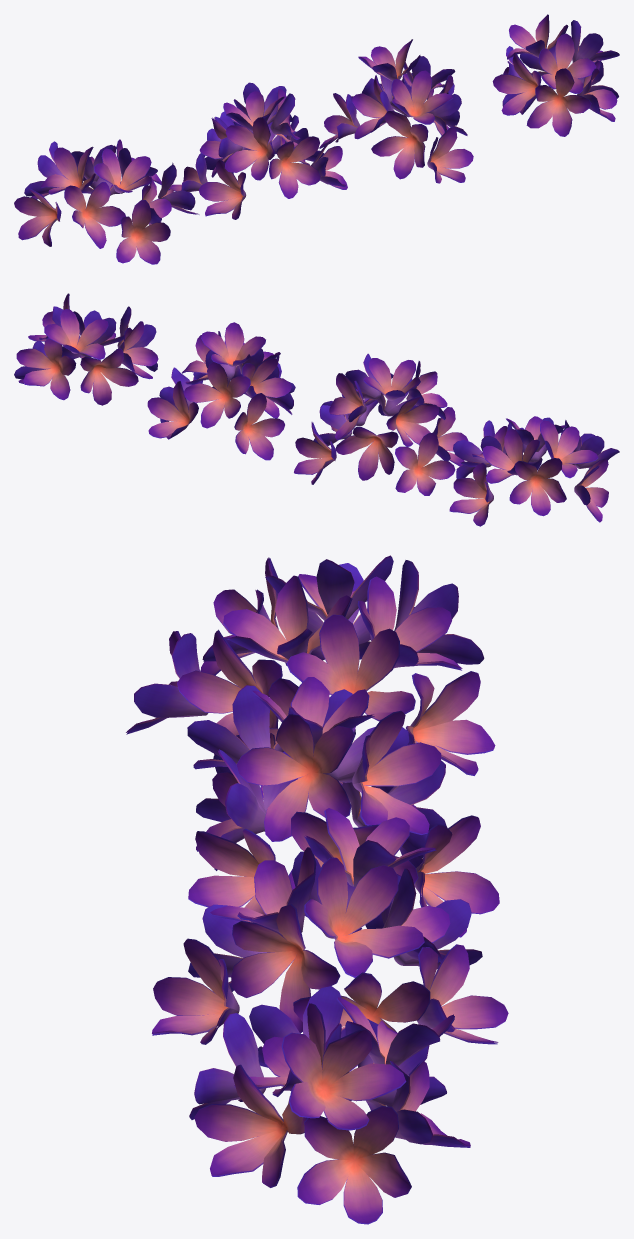
The model's file is floral_cluster.glb.
3 views of the same model, one above another, from view 1: azimuth 30°, elevation 25°; view 2: azimuth 150°, elevation 25°; view 3: azimuth 270°, elevation 25° (orthographic). The views are drawn at different scales.
Parts seen in each view (by area): view 1: redbudHemiC|RedbudPetal|Dupli|0.1.2, redbudHemiB|RedbudPetal.001|Dupli|0.2.8, redbudHemiA|RedbudPetal.001|Dupli|0.1.5, redbudHemiD|RedbudPetal|Dupli|0.1.2, redbudHemiA|RedbudPetal.006|Dupli|0.3.4, redbudHemiB|RedbudPetal.005|Dupli|0.4.4, redbudHemiC|RedbudPetal|Dupli|0.0.10, redbudHemiB|RedbudPetal.002|Dupli|0.1.4, redbudHemiC|RedbudPetal.003|Dupli|0.3, redbudHemiA|RedbudPetal.001|Dupli|0.0.7, redbudHemiD|RedbudPetal.005|Dupli|0.3.6, redbudHemiC|RedbudPetal|Dupli|0.0.4 (+38 smaller); view 2: redbudHemiC|RedbudPetal|Dupli|0.1.8, redbudHemiB|RedbudPetal.002|Dupli|0.2.5, redbudHemiC|RedbudPetal.006|Dupli|0.4, redbudHemiC|RedbudPetal.005|Dupli|0.4.5, redbudHemiD|RedbudPetal.005|Dupli|0.3.7, redbudHemiB|RedbudPetal.006|Dupli|0.4, redbudHemiC|RedbudPetal.005|Dupli|0.4.7, redbudHemiD|RedbudPetal.005|Dupli|0.4.1, redbudHemiA|RedbudPetal.005|Dupli|0.4.5, redbudHemiB|RedbudPetal.005|Dupli|0.4.9, redbudHemiD|RedbudPetal|Dupli|0.0.5, redbudHemiD|RedbudPetal.005|Dupli|0.4.5 (+51 smaller); view 3: redbudHemiB|RedbudPetal.001|Dupli|0.1.6, redbudHemiC|RedbudPetal.001|Dupli|0.1.6, redbudHemiD|RedbudPetal|Dupli|0.0.4, redbudHemiA|RedbudPetal.001|Dupli|0.0.6, redbudHemiC|RedbudPetal.002|Dupli|0.2.10, redbudHemiB|RedbudPetal.006|Dupli|0.3.10, redbudHemiD|RedbudPetal.002|Dupli|0.2, redbudHemiB|RedbudPetal.004|Dupli|0.3.1, redbudHemiC|RedbudPetal.004|Dupli|0.3.1, redbudHemiA|RedbudPetal.002|Dupli|0.0.10, redbudHemiA|RedbudPetal.003|Dupli|0.2.1, redbudHemiA|RedbudPetal.006|Dupli|0.4.10 (+66 smaller).
Part boxes in pixels (x1,y1,x2,y2): redbudHemiC|RedbudPetal|Dupli|0.1.2: (411, 70, 432, 113); redbudHemiB|RedbudPetal.001|Dupli|0.2.8: (198, 182, 241, 201); redbudHemiA|RedbudPetal.001|Dupli|0.1.5: (54, 147, 79, 186); redbudHemiD|RedbudPetal|Dupli|0.1.2: (492, 74, 535, 94); redbudHemiA|RedbudPetal.006|Dupli|0.3.4: (119, 156, 151, 189); redbudHemiB|RedbudPetal.005|Dupli|0.4.4: (225, 125, 263, 151); redbudHemiC|RedbudPetal|Dupli|0.0.10: (432, 149, 473, 168); redbudHemiB|RedbudPetal.002|Dupli|0.1.4: (225, 150, 262, 172); redbudHemiC|RedbudPetal.003|Dupli|0.3: (352, 93, 386, 117); redbudHemiA|RedbudPetal.001|Dupli|0.0.7: (14, 196, 56, 216); redbudHemiD|RedbudPetal.005|Dupli|0.3.6: (555, 33, 574, 70); redbudHemiC|RedbudPetal|Dupli|0.0.4: (393, 140, 414, 179); redbudHemiC|RedbudPetal|Dupli|0.1.8: (147, 397, 186, 422); redbudHemiB|RedbudPetal.002|Dupli|0.2.5: (358, 439, 378, 480); redbudHemiC|RedbudPetal.006|Dupli|0.4: (253, 377, 291, 397); redbudHemiC|RedbudPetal.005|Dupli|0.4.5: (183, 383, 224, 402); redbudHemiD|RedbudPetal.005|Dupli|0.3.7: (16, 348, 56, 368); redbudHemiB|RedbudPetal.006|Dupli|0.4: (398, 404, 439, 423); redbudHemiC|RedbudPetal.005|Dupli|0.4.7: (224, 322, 244, 363); redbudHemiD|RedbudPetal.005|Dupli|0.4.1: (98, 367, 138, 386); redbudHemiA|RedbudPetal.005|Dupli|0.4.5: (555, 426, 579, 459); redbudHemiB|RedbudPetal.005|Dupli|0.4.9: (417, 432, 438, 469); redbudHemiD|RedbudPetal|Dupli|0.0.5: (76, 319, 108, 350); redbudHemiD|RedbudPetal.005|Dupli|0.4.5: (60, 309, 79, 348); redbudHemiB|RedbudPetal.001|Dupli|0.1.6: (361, 742, 441, 786); redbudHemiC|RedbudPetal.001|Dupli|0.1.6: (341, 865, 398, 935); redbudHemiD|RedbudPetal|Dupli|0.0.4: (194, 1104, 280, 1141); redbudHemiA|RedbudPetal.001|Dupli|0.0.6: (319, 614, 359, 693); redbudHemiC|RedbudPetal.002|Dupli|0.2.10: (153, 977, 227, 1015); redbudHemiB|RedbudPetal.006|Dupli|0.3.10: (423, 871, 499, 914); redbudHemiD|RedbudPetal.002|Dupli|0.2: (324, 1063, 406, 1101); redbudHemiB|RedbudPetal.004|Dupli|0.3.1: (236, 747, 309, 785); redbudHemiC|RedbudPetal.004|Dupli|0.3.1: (231, 951, 296, 997); redbudHemiA|RedbudPetal.002|Dupli|0.0.10: (414, 719, 495, 754); redbudHemiA|RedbudPetal.003|Dupli|0.2.1: (177, 670, 241, 713); redbudHemiA|RedbudPetal.006|Dupli|0.4.10: (413, 671, 480, 732).
Bounding box in the file's own units: 1.17 × 0.1943 × 0.3333.
1 material, 1 textured.
